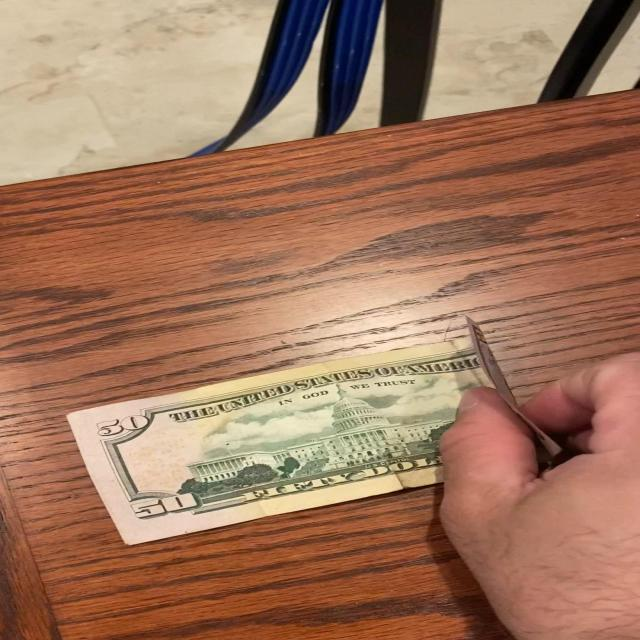50-Back: (61, 313, 604, 552)
